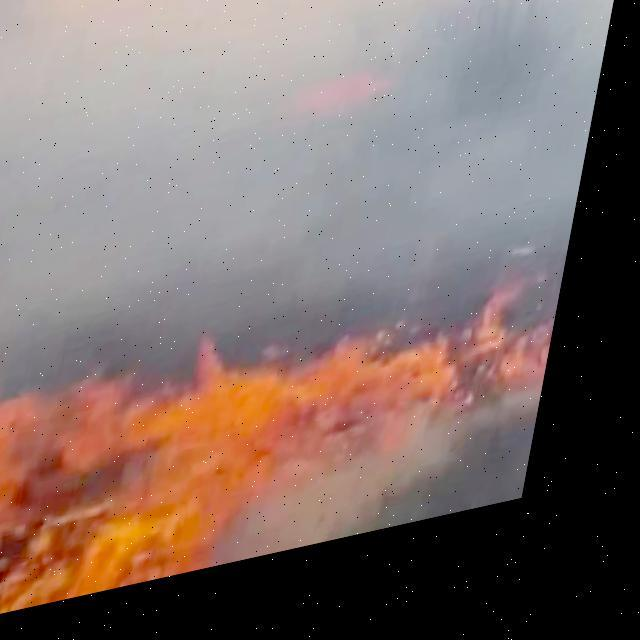Fire: (0, 260, 580, 629)
